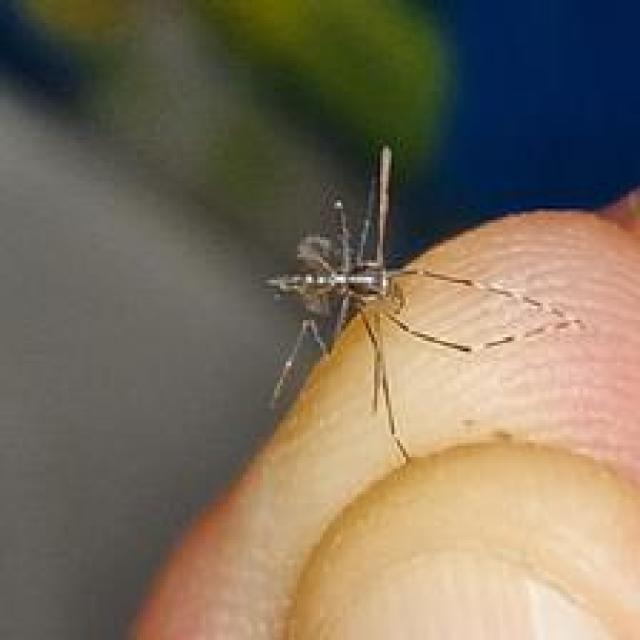Aedes albopictus: (260, 140, 583, 466)
